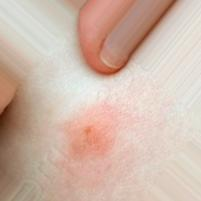Mosquito: (65, 106, 119, 157)
